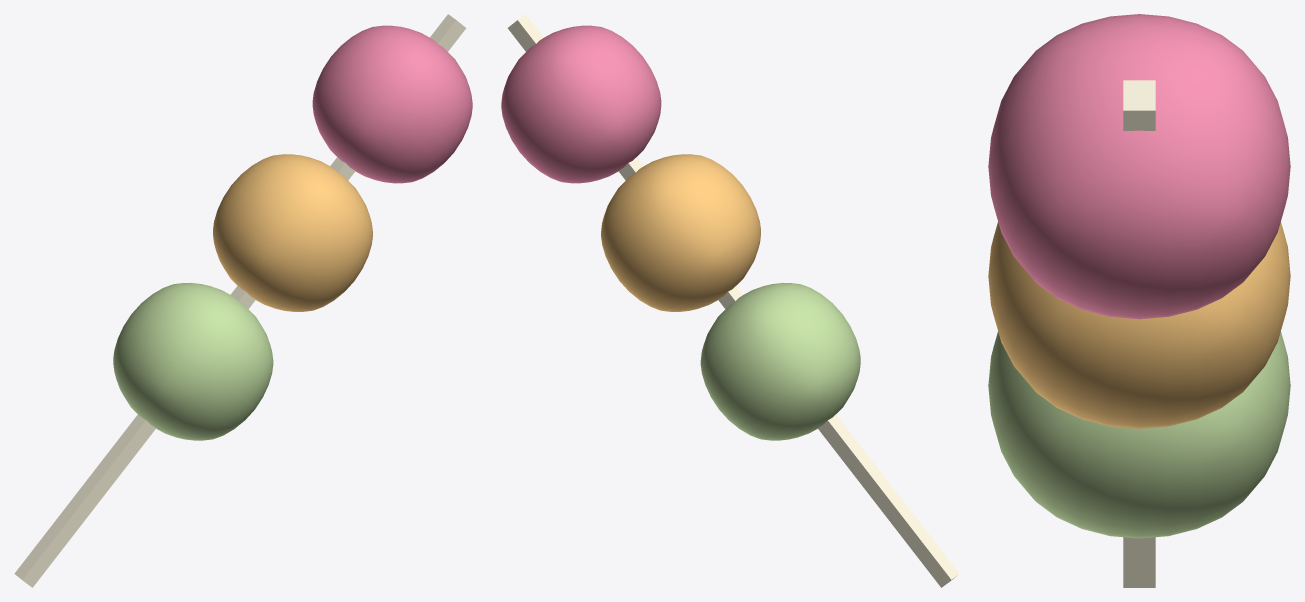
File: dango.glb
The picture shows the model from 3 angles, left to right: view 1: azimuth 30°, elevation 25°; view 2: azimuth 150°, elevation 25°; view 3: azimuth 270°, elevation 25°; orthographic projection. The views are drawn at different scales.
Parts seen in each view (by area): view 1: Cube.429; view 2: Cube.429; view 3: Cube.429.
Boxes of the visible parts, x1,y1,x2,y2 form: Cube.429: [14, 14, 472, 587]; Cube.429: [501, 14, 959, 587]; Cube.429: [988, 14, 1290, 587].
Size of the model in its own units: 2.14 by 2.14 by 0.6413.
Materials: 1 (1 with a texture image).
